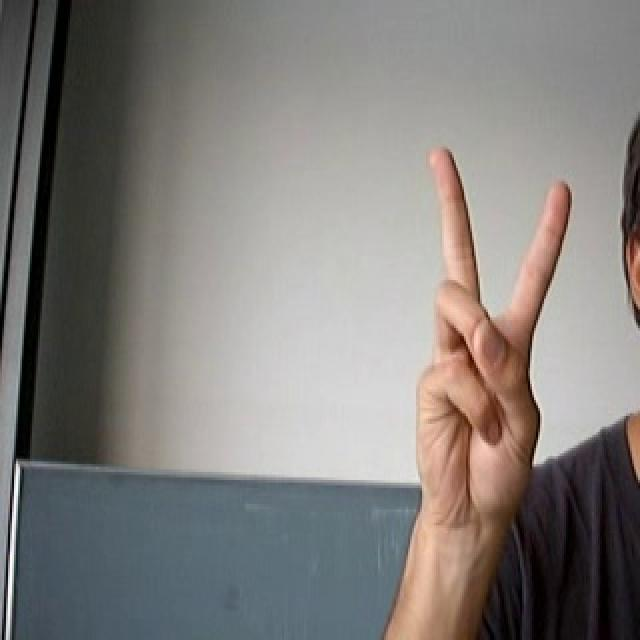V: (403, 124, 592, 535), (531, 382, 533, 393)
